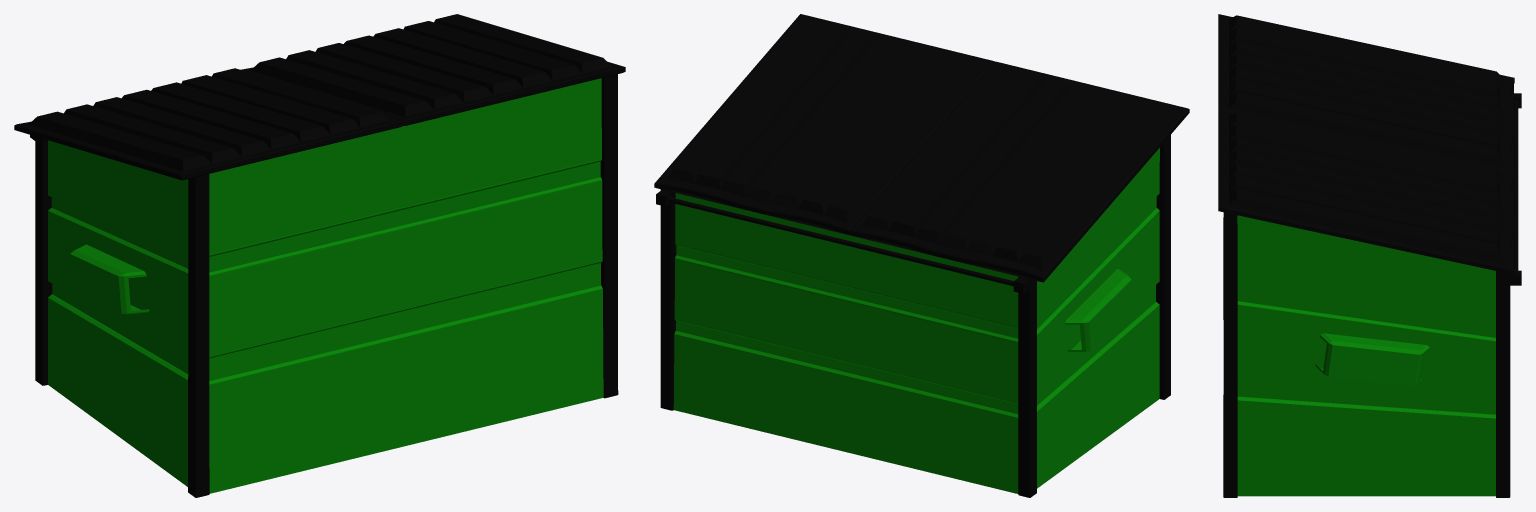
File: Dumpster.fbx
3 renders of one model, left to right at view 1: azimuth 30°, elevation 25°; view 2: azimuth 150°, elevation 25°; view 3: azimuth 270°, elevation 25°, orthographic. The views are drawn at different scales.
Parts seen in each view (by area): view 1: Side Bars; view 2: Side Bars; view 3: Side Bars.
Part boxes in pixels (x1=…): Side Bars: x1=14, y1=14, x2=625, y2=497; Side Bars: x1=654, y1=14, x2=1189, y2=497; Side Bars: x1=1218, y1=14, x2=1521, y2=497.
Size of the model in its own units: 665 by 463 by 429.
